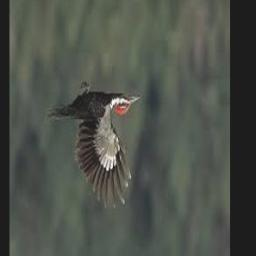Woodpecker: (47, 81, 140, 209)
